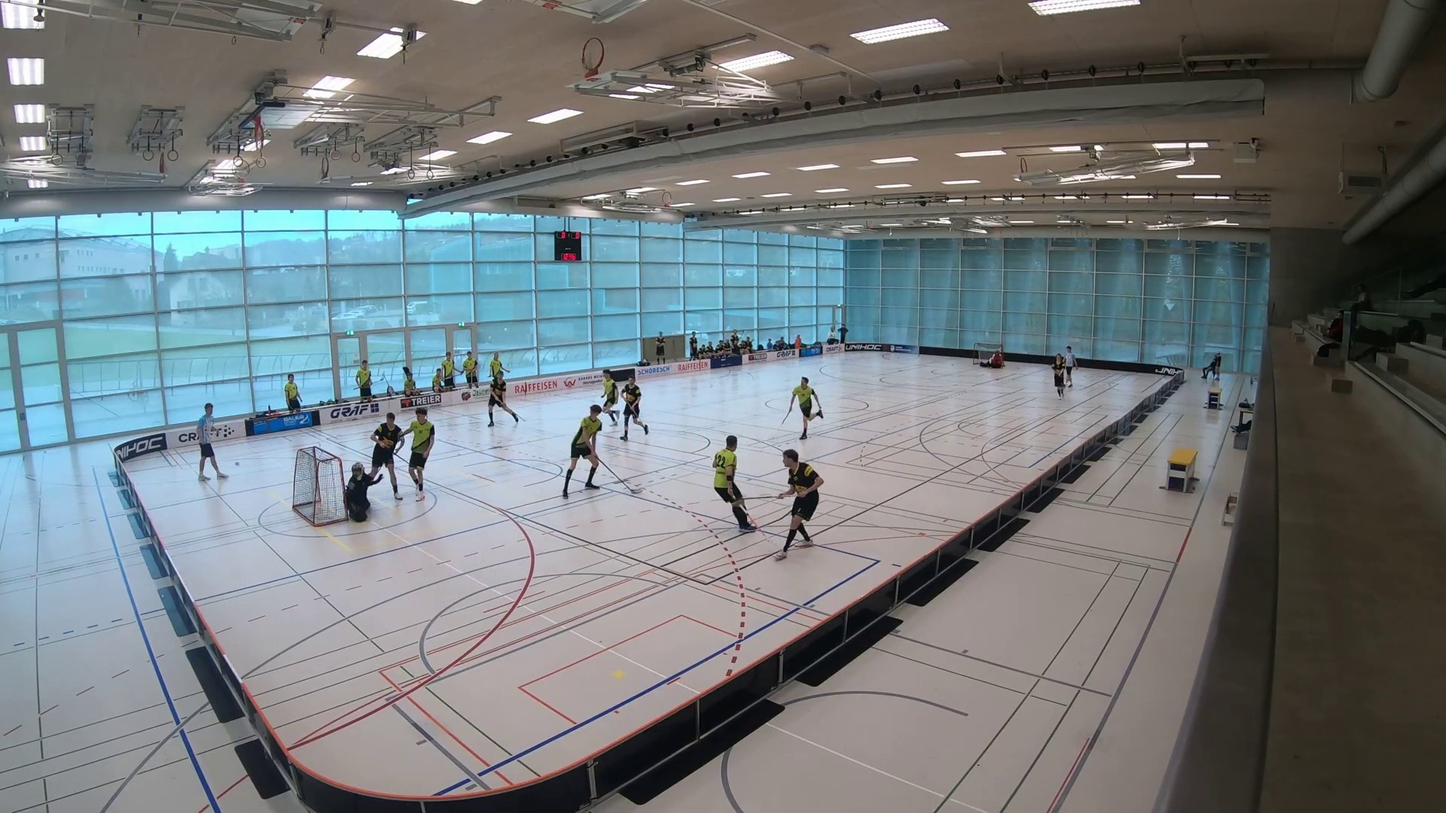Schiri: (188, 399, 229, 483), (1063, 342, 1078, 392)
ball: (233, 461, 239, 466)
goalkeeper: (344, 462, 382, 521), (979, 351, 1003, 368)
player: (775, 449, 823, 559), (363, 409, 405, 506), (714, 436, 755, 531), (562, 404, 602, 497), (401, 408, 435, 500), (789, 377, 816, 439), (621, 379, 648, 440), (488, 376, 519, 426), (602, 370, 618, 425), (1051, 354, 1065, 396)
